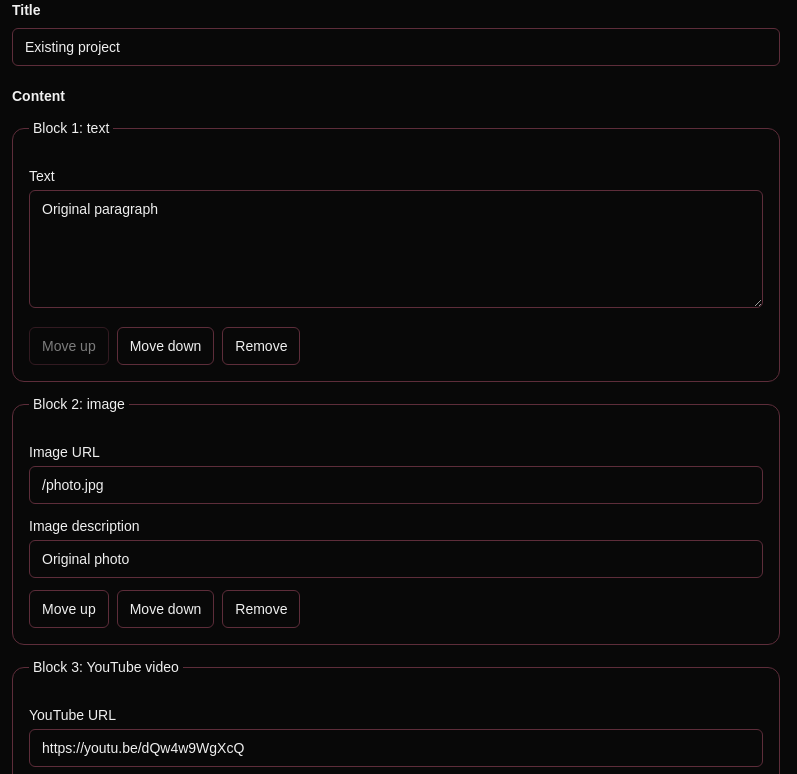
Scenario: invalid YouTube URLs are rejected before persistence
Step 1. Replace the text in the field labelled "YouTube URL" with "https://example.com/not-youtube" → (396, 748), box [29,729,763,767]
(page scrolled)
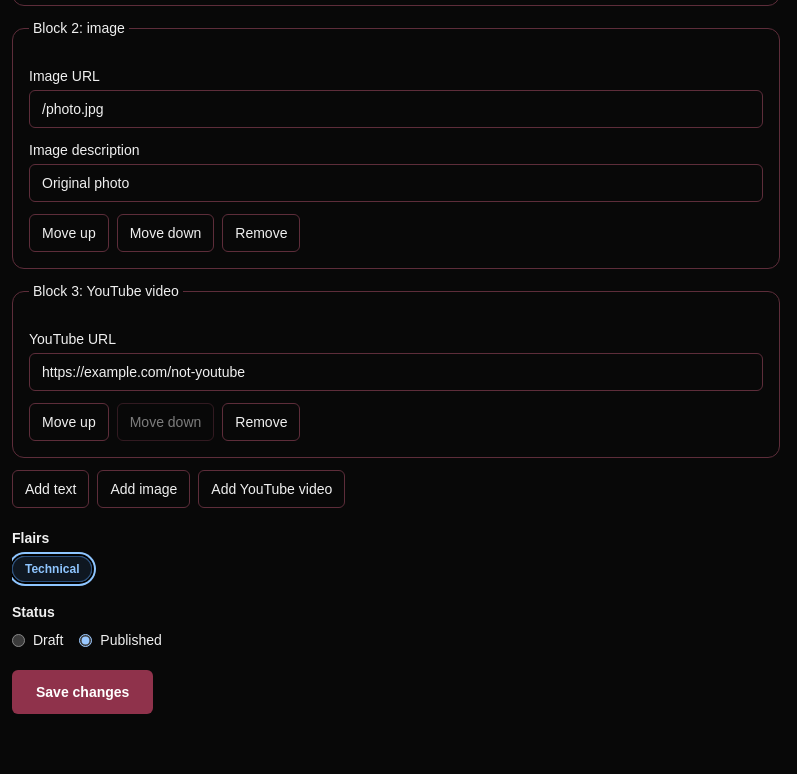
Step 2. Click the button "Save changes" → (83, 692), box [12,670,153,714]
(page scrolled)
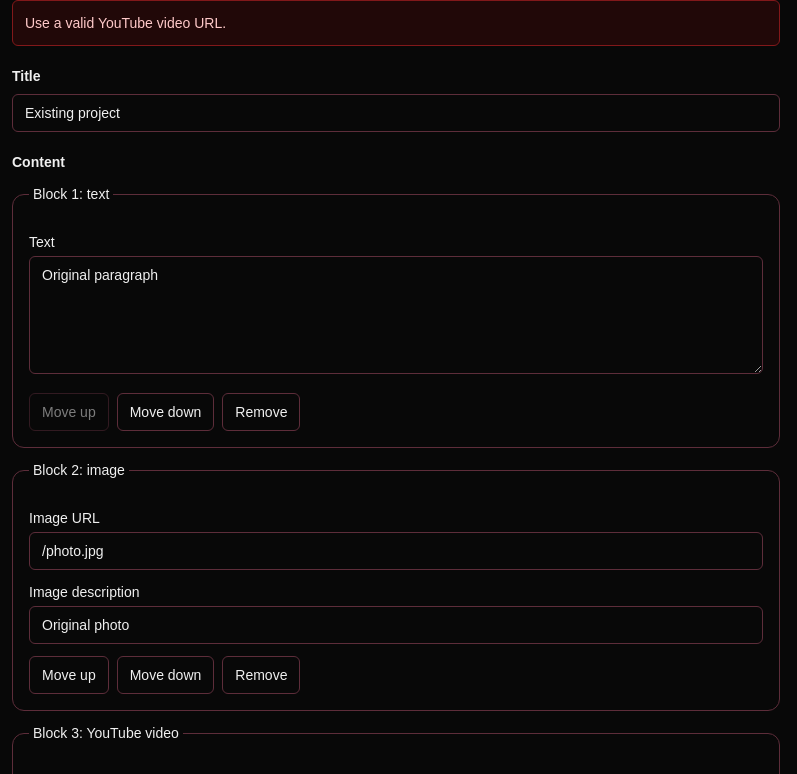
Now the message shows "valid YouTube video URL", box [25,15,226,31]
